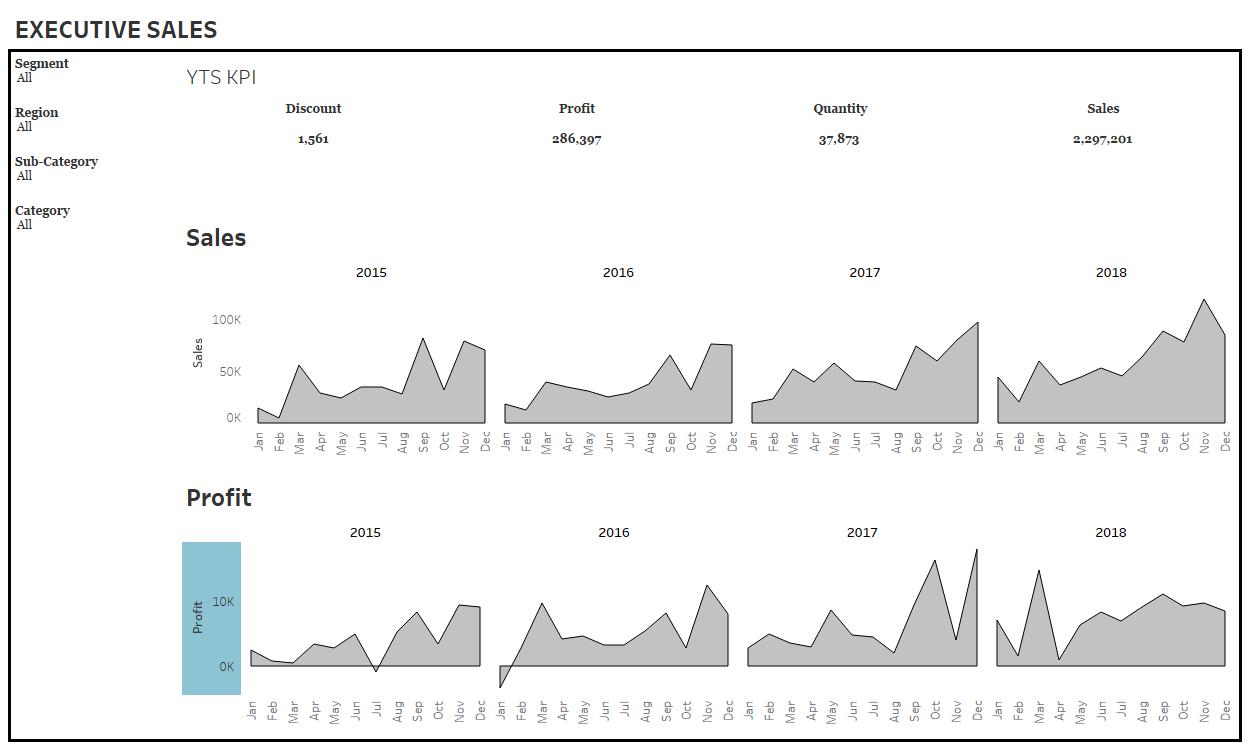

Layout of this report page (visuals, bound fields, positions):
{"tool":"tableau","page":{"name":"Executive Dashboard","canvas":[1250,750],"ordinal":0},"visuals":[{"type":"title","box":[8,8,1234,41]},{"type":"filter","title":"YTS KPI","param":"[federated.1f4am4z095hck71b9j6361p3wz7q].[none:Segment:nk]","box":[11,52,167,49]},{"type":"worksheet","title":"YTS KPI","mark":"Automatic","box":[178,52,1061,158]},{"type":"filter","title":"YTS KPI","param":"[federated.1f4am4z095hck71b9j6361p3wz7q].[none:Region:nk]","box":[11,101,167,49]},{"type":"filter","title":"YTS KPI","param":"[federated.1f4am4z095hck71b9j6361p3wz7q].[none:Sub-Category:nk]","box":[11,150,167,49]},{"type":"filter","title":"YTS KPI","param":"[federated.1f4am4z095hck71b9j6361p3wz7q].[none:Category:nk]","box":[11,199,167,49]},{"type":"worksheet","title":"Sales","mark":"Area","rows":["Sales"],"cols":["Order Date","Order Date"],"box":[178,210,1061,260]},{"type":"worksheet","title":"Profit","mark":"Area","rows":["Profit"],"cols":["Order Date","Order Date"],"box":[178,470,1061,269]}]}

Visuals, with their boxes in screenshot pixels (x1, y1, x2, y2), scaled from the page's 1250x750 canvas onto the 1250x750 screenshot:
title: [x1=8, y1=8, x2=1242, y2=49]
"YTS KPI" filter: [x1=11, y1=52, x2=178, y2=101]
"YTS KPI" worksheet: [x1=178, y1=52, x2=1239, y2=210]
"YTS KPI" filter: [x1=11, y1=101, x2=178, y2=150]
"YTS KPI" filter: [x1=11, y1=150, x2=178, y2=199]
"YTS KPI" filter: [x1=11, y1=199, x2=178, y2=248]
"Sales" worksheet (Area marks): [x1=178, y1=210, x2=1239, y2=470]
"Profit" worksheet (Area marks): [x1=178, y1=470, x2=1239, y2=739]
